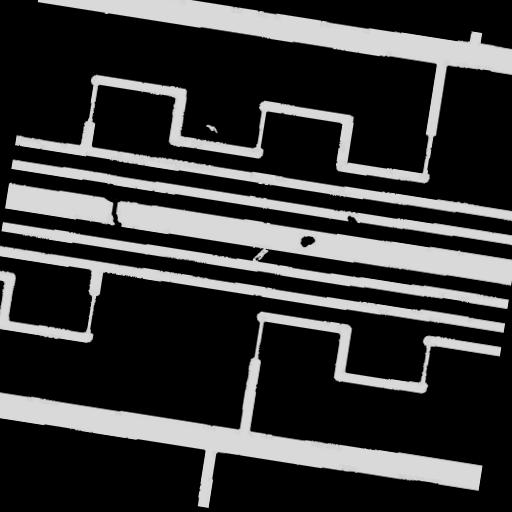copper: (290, 226, 324, 256)
open: (242, 237, 276, 273)
pin-hole: (196, 115, 226, 142)
short: (85, 182, 134, 237)
spur: (336, 206, 366, 235)
